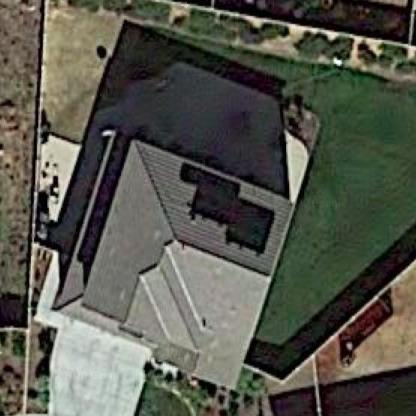solar_panel: (167, 157, 283, 268)
